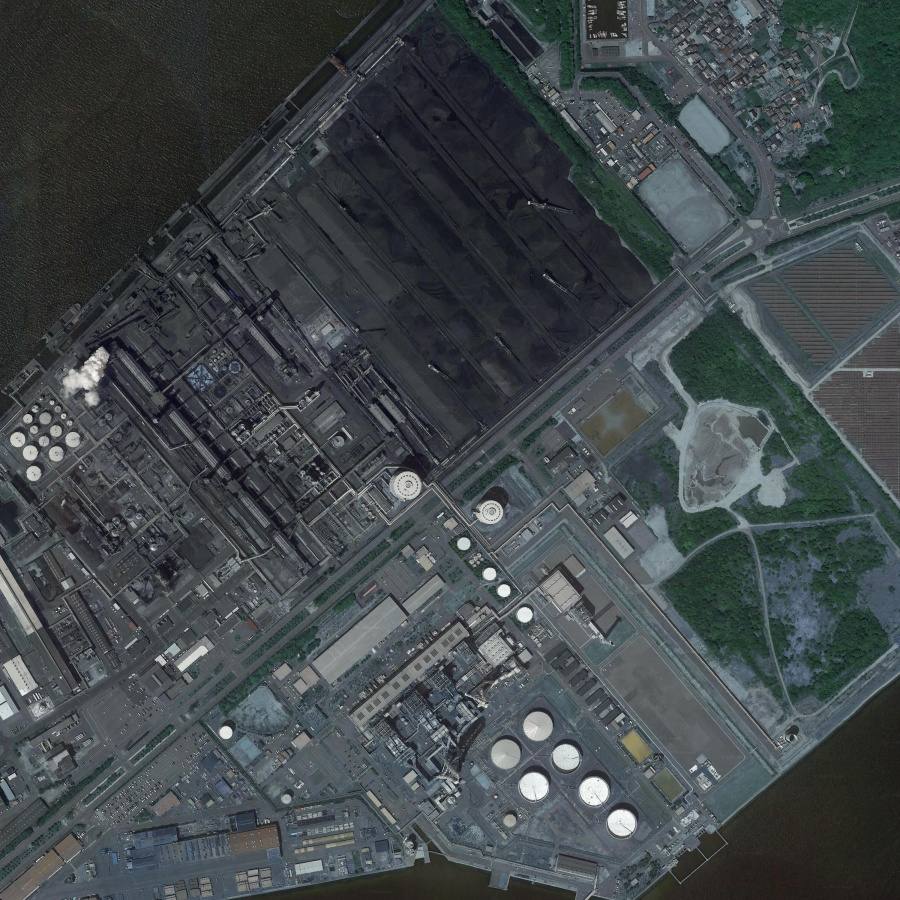PowerPlant: (280, 18, 667, 412), (358, 458, 659, 837)
